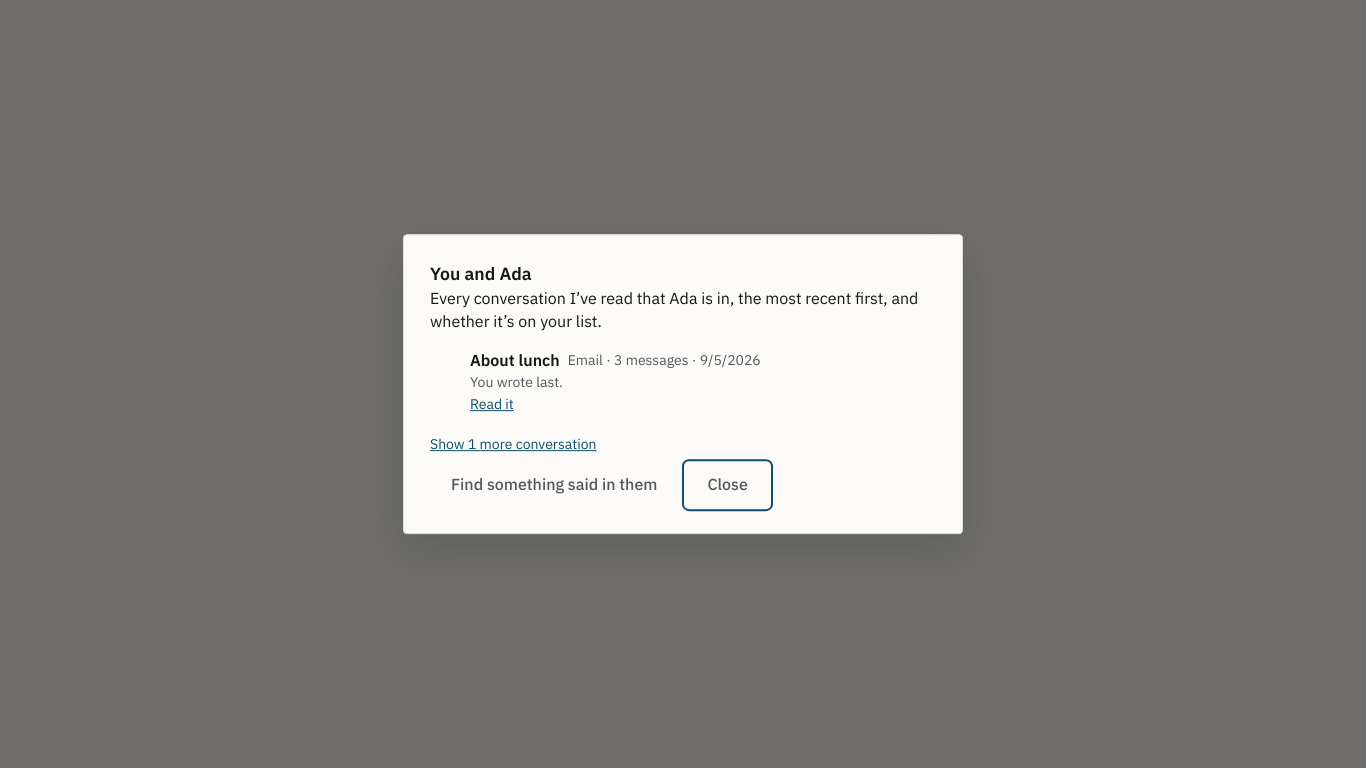
every conversation with someone, not only what is waiting › reads on to older conversations from the last one shown
Step 1. Click the button "Show 1 more conversation" → {"x": 513, "y": 444}, box [430, 434, 596, 454]
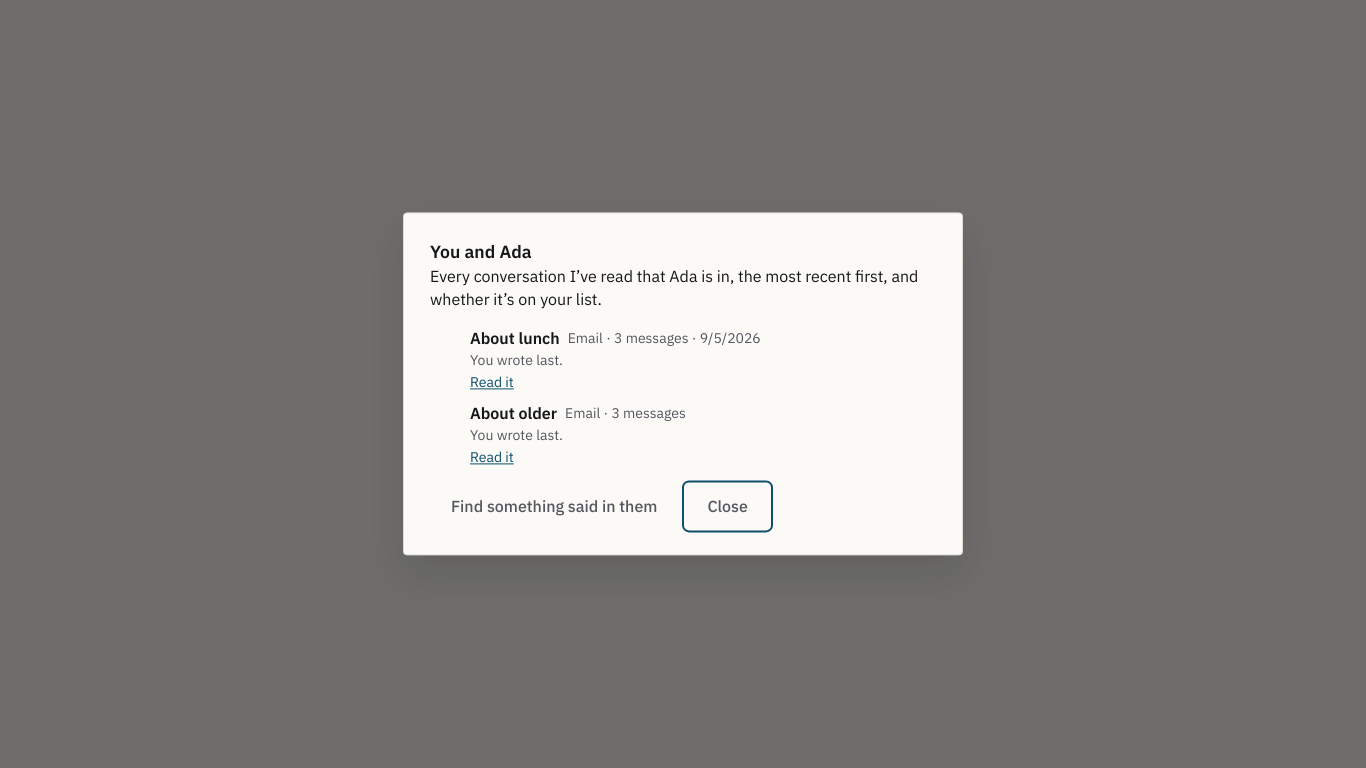
expect the text "About older" is shown: met, box [470, 402, 557, 425]
